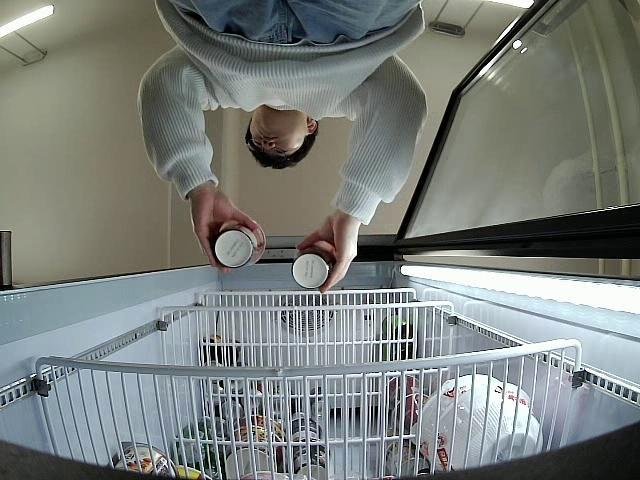02_shinRamen_S: (213, 220, 266, 268), (292, 242, 338, 288)
